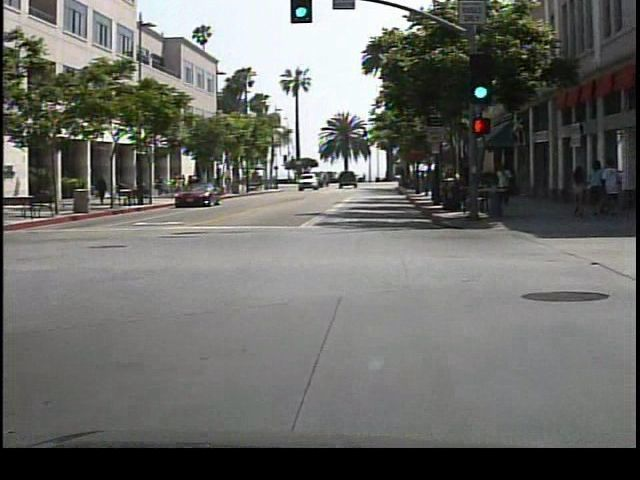person: (495, 158, 518, 211), (96, 171, 112, 205)
